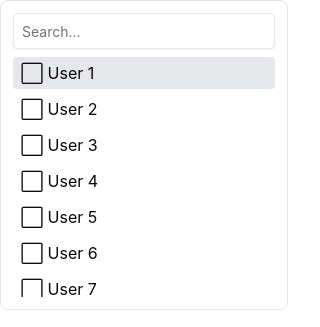
Test case: MultiSelect › clamps keyboard focus after filtering
The image size is (320, 327).
Click the dropdown named "Search options": (144, 31) x1=13 y1=13 x2=275 y2=49
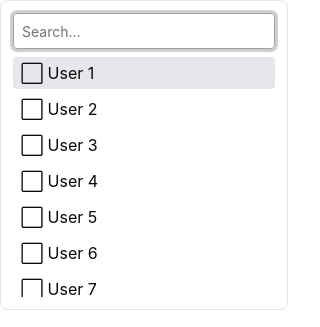
Press Arrowdown Arrowdown Arrowdown
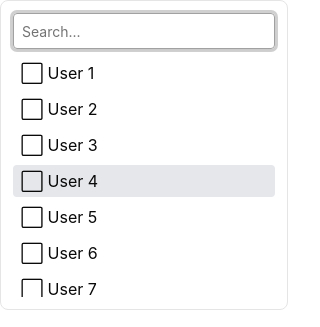
In the dropdown named "Search options": (144, 31) x1=13 y1=13 x2=275 y2=49, type "user5@test.com"
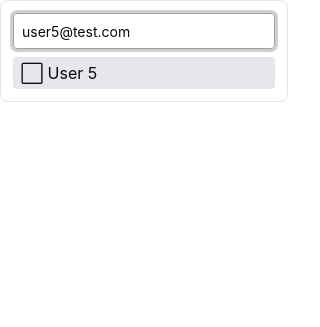
Result: the option "⬜ User 1" is gone
Press Enter
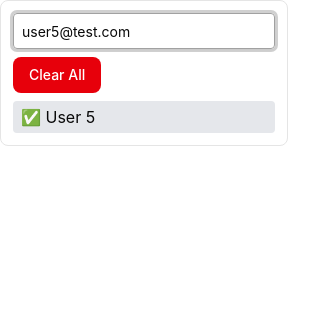
Result: the text "✅ User 5" is shown at x1=21 y1=105 x2=95 y2=129
